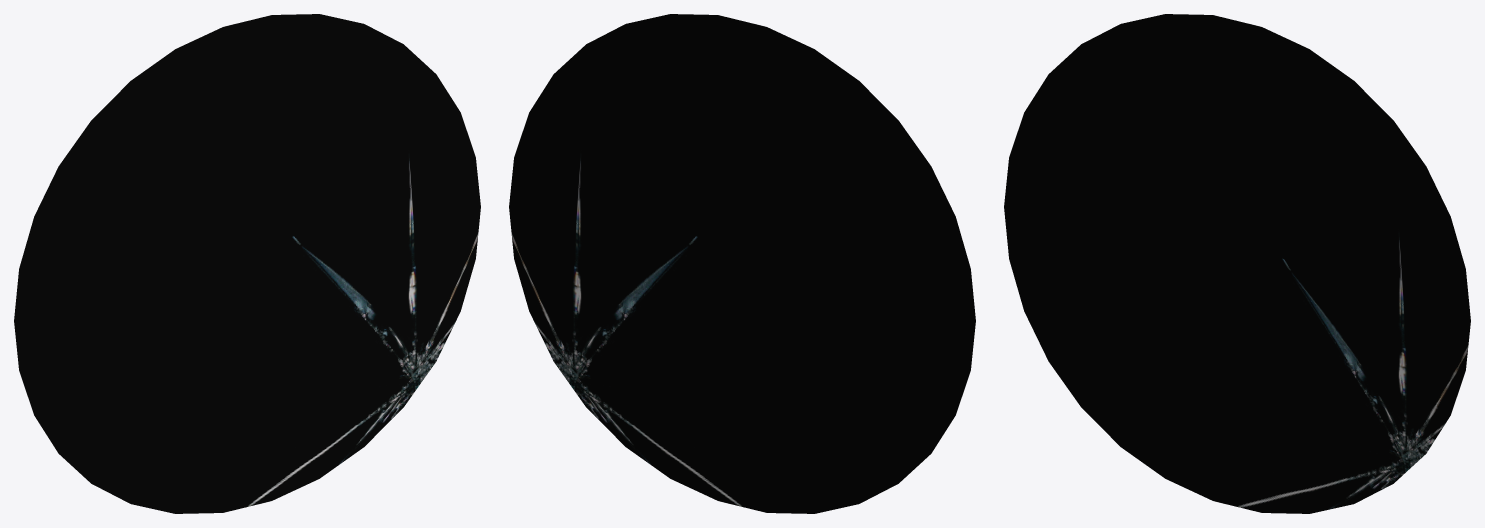
File: Crack 1.fbx
3 renders of one model, left to right at view 1: azimuth 30°, elevation 25°; view 2: azimuth 150°, elevation 25°; view 3: azimuth 330°, elevation 25°, orthographic.
Parts seen in each view (by area): view 1: pCylinder1; view 2: pCylinder1; view 3: pCylinder1.
Boxes of the visible parts, x1=… form: pCylinder1: x1=14, y1=14, x2=480, y2=513; pCylinder1: x1=509, y1=14, x2=975, y2=513; pCylinder1: x1=1004, y1=14, x2=1470, y2=513.
Size of the model in its own units: 16.74 by 16.65 by 0.
Materials: 1 (1 with a texture image).
